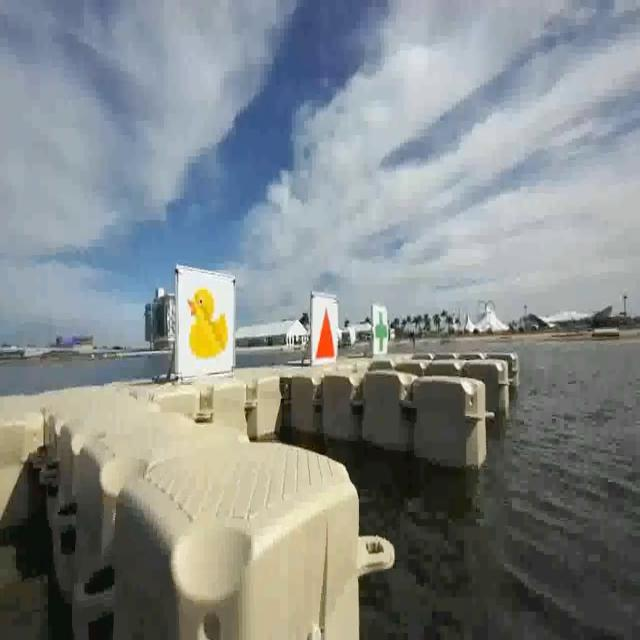blue-cross: (372, 304, 391, 361)
yellow-duck: (175, 263, 236, 382)
